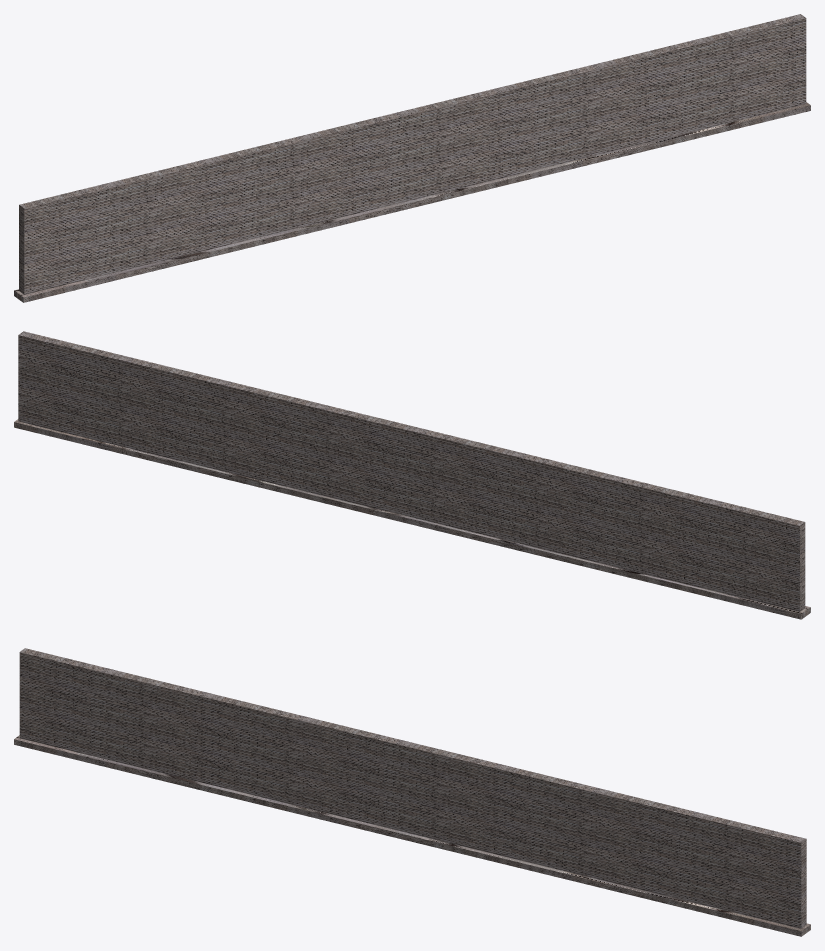
Rendered from wall.fbx.
3 renders of one model, top to bottom at view 1: azimuth 30°, elevation 25°; view 2: azimuth 150°, elevation 25°; view 3: azimuth 330°, elevation 25°, orthographic.
Visible parts, largest first — view 1: 立方体; view 2: 立方体; view 3: 立方体.
Part boxes in pixels (x1,y1,x2,y2): 立方体: (14,14,810,302); 立方体: (14,331,810,619); 立方体: (14,648,810,936).
Bounding box in the file's own units: 7178 × 798 × 151.
